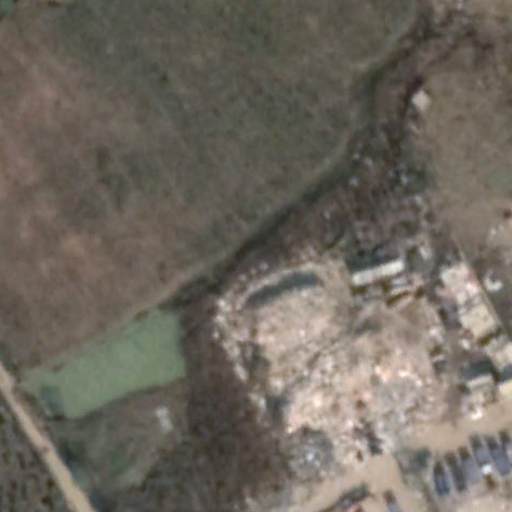msw: (209, 252, 457, 470)
